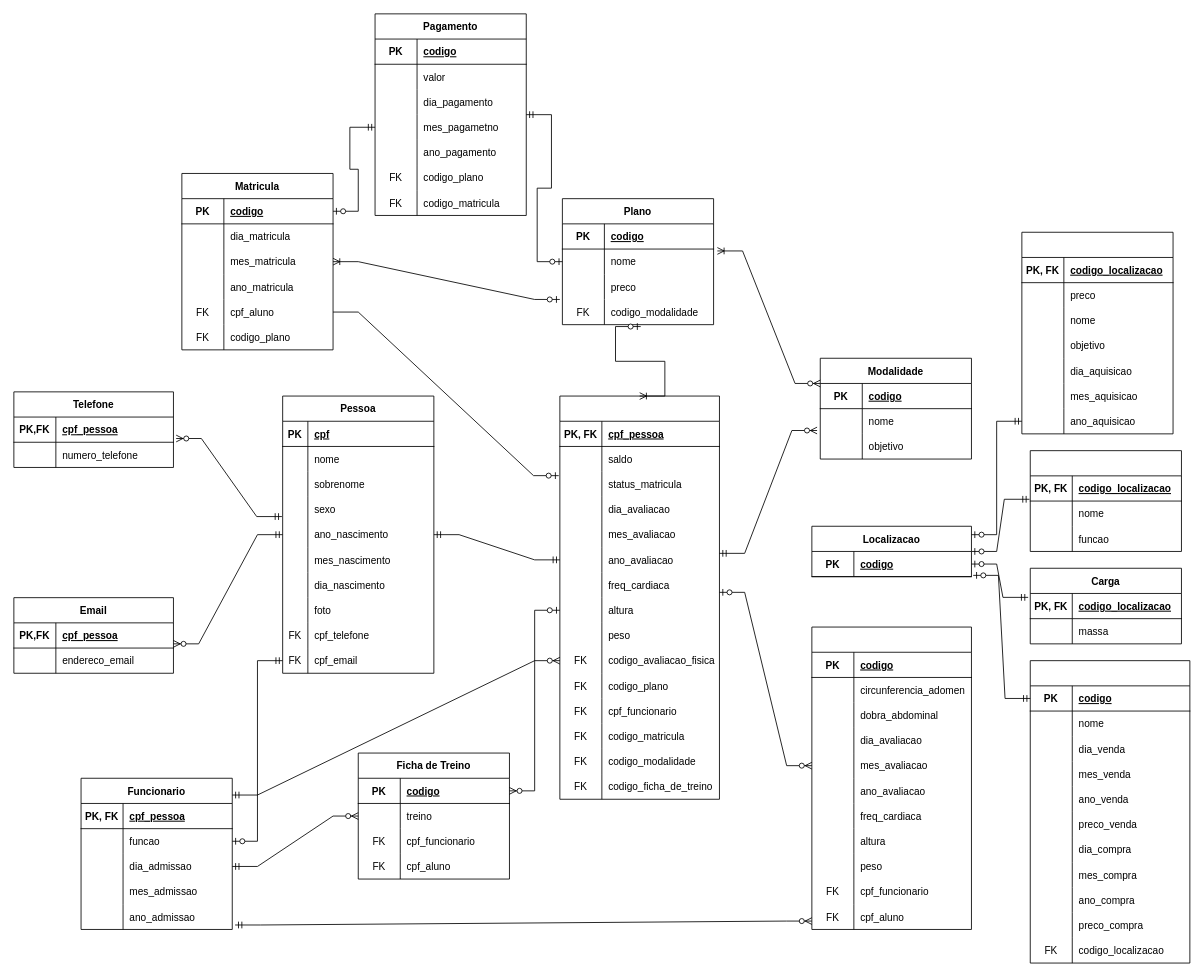
Some shapes in this 1204 by 977 pixel diagram are drawn without their labels. Here are the shapes that lost their labels. From the top down, the box of each, then its label:
(1021, 231, 1173, 434): Maquina
(1029, 450, 1181, 551): Movel
(559, 395, 719, 799): Aluno
(811, 626, 971, 929): Avaliacao Fisica
(1029, 660, 1190, 963): Produto
